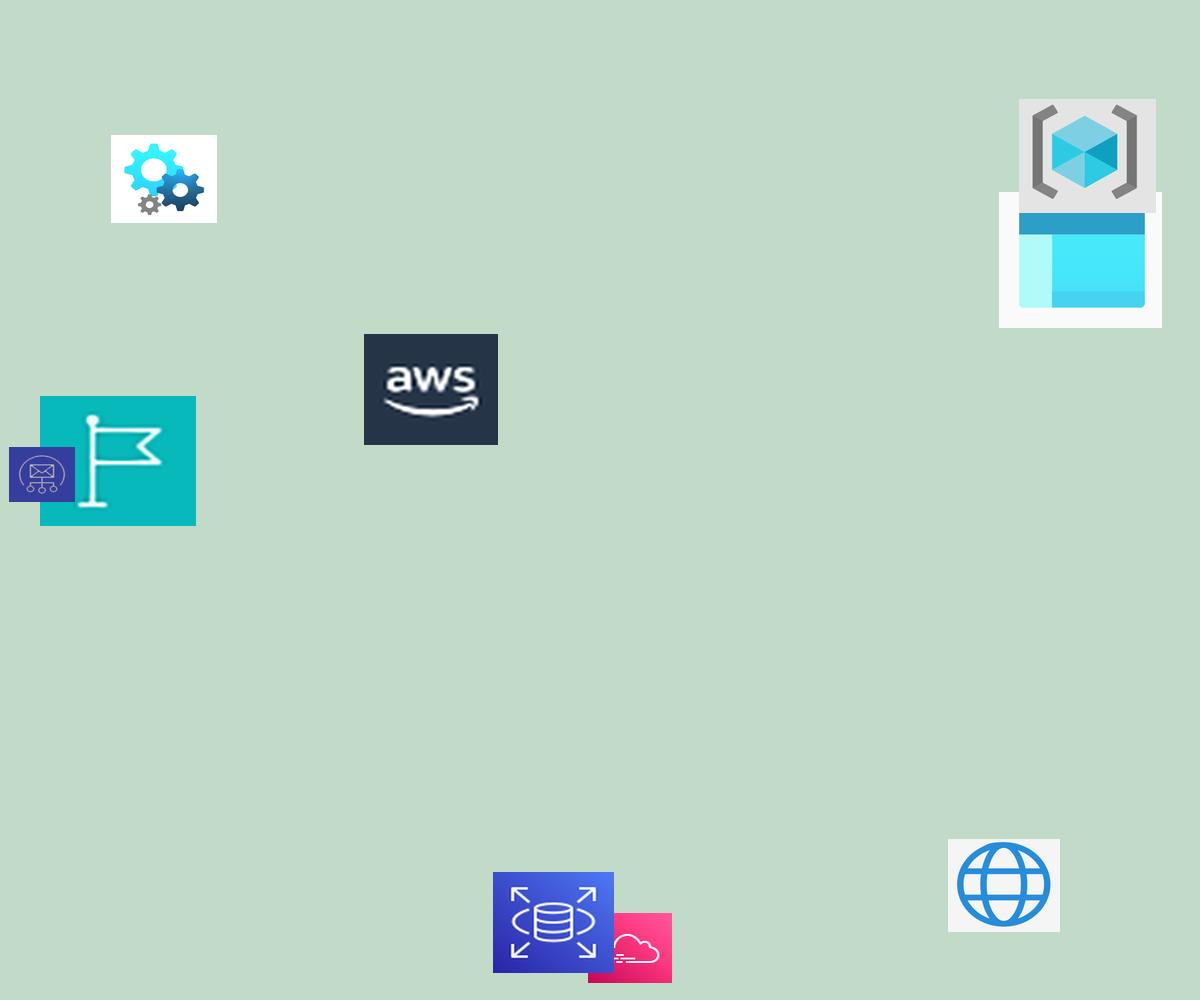AWS-Cloud-logo: (364, 334, 498, 445)
AWS-CloudTrail: (588, 913, 672, 983)
AWS-RDS: (493, 872, 614, 973)
AWS-Region: (40, 396, 196, 526)
AWS-Simple-Email-Service: (9, 447, 75, 502)
Azure_api: (111, 135, 217, 223)
Azure_http: (948, 839, 1060, 932)
Azure_management-portal: (999, 192, 1162, 328)
Azure_resource_group: (1019, 99, 1156, 213)
